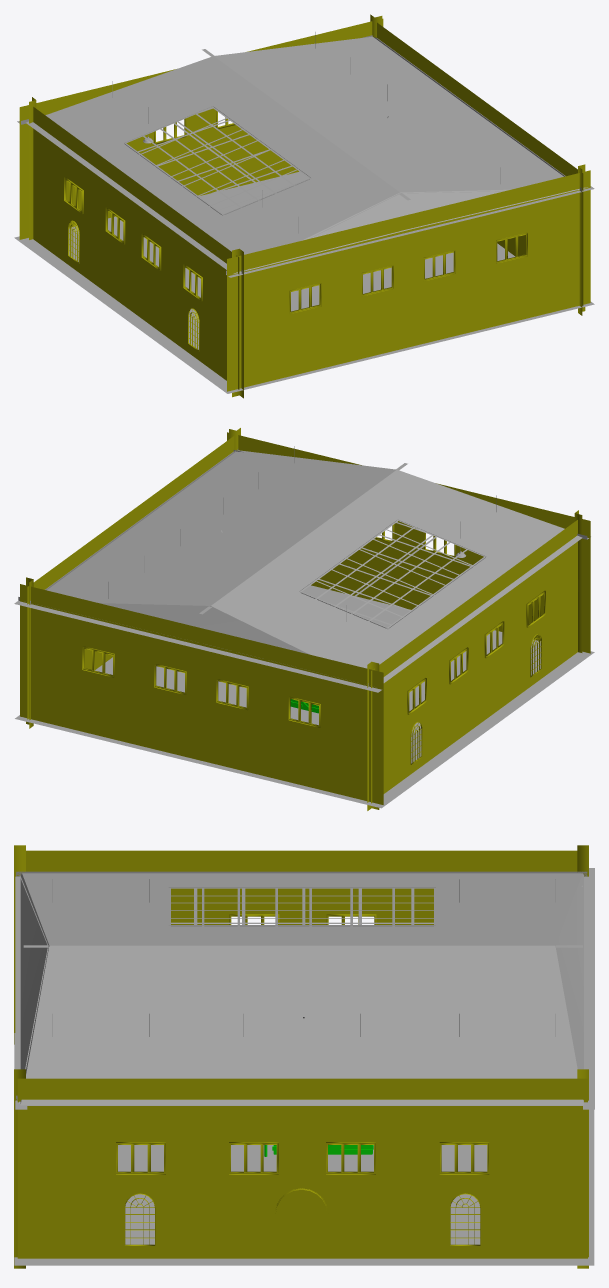
The model's file is MFC_Backdrop_Bg.fbx.
The picture shows the model from 3 angles, top to bottom: view 1: azimuth 30°, elevation 25°; view 2: azimuth 150°, elevation 25°; view 3: azimuth 270°, elevation 25°; orthographic projection. The views are drawn at different scales.
Parts seen in each view (by area): view 1: MFC_Back_Drop_Bg, MFC_Warehouse_Ceiling, MFC_Floor; view 2: MFC_Back_Drop_Bg, MFC_Warehouse_Ceiling, MFC_Floor; view 3: MFC_Warehouse_Ceiling, MFC_Back_Drop_Bg, MFC_Floor.
Boxes of the visible parts, x1=… form: MFC_Back_Drop_Bg: x1=19, y1=14, x2=590, y2=398; MFC_Warehouse_Ceiling: x1=17, y1=32, x2=594, y2=277; MFC_Floor: x1=14, y1=171, x2=594, y2=393; MFC_Back_Drop_Bg: x1=20, y1=428, x2=590, y2=810; MFC_Warehouse_Ceiling: x1=14, y1=446, x2=590, y2=692; MFC_Floor: x1=15, y1=585, x2=594, y2=808; MFC_Warehouse_Ceiling: x1=15, y1=868, x2=594, y2=1109; MFC_Back_Drop_Bg: x1=14, y1=845, x2=588, y2=1268; MFC_Floor: x1=14, y1=1033, x2=594, y2=1265.
Bounding box in the file's own units: 2731 × 1103 × 2754.
